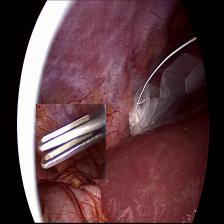Grasper: (36, 104, 106, 179)
Specimen Bag: (118, 33, 208, 138)
